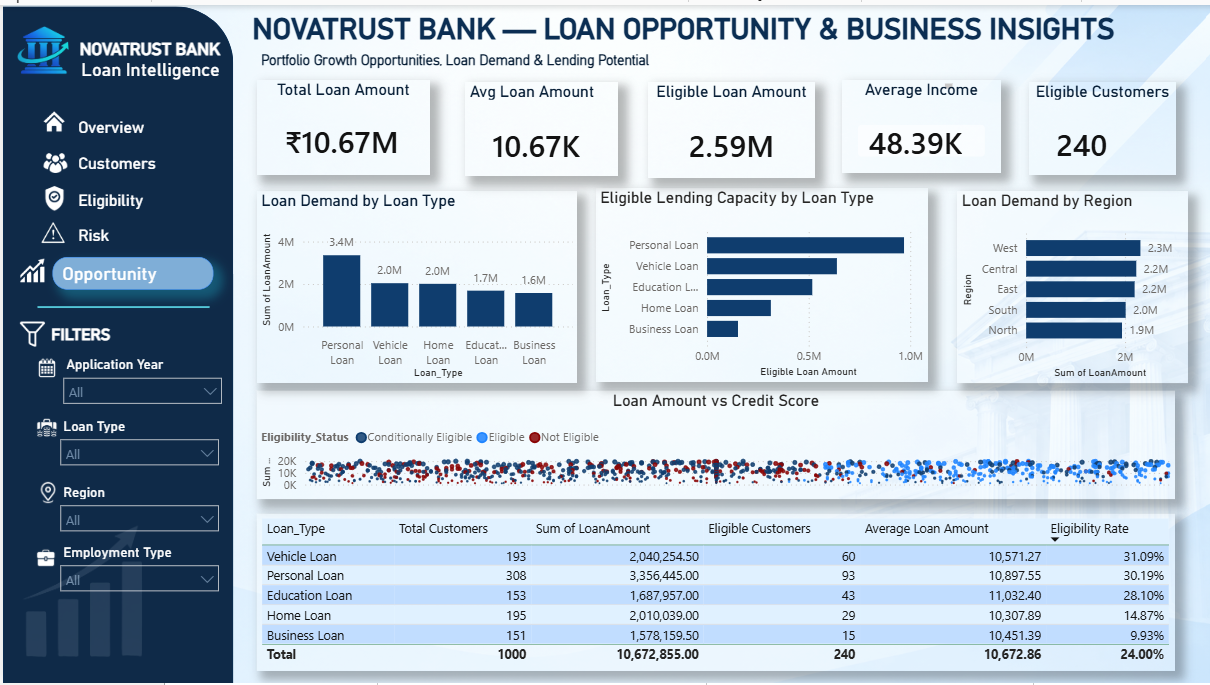

This screenshot's page, from the dashboard's own definition file:
{"tool":"powerbi","page":{"name":"Loan Opportunity","canvas":[1280,720],"ordinal":4},"visuals":[{"type":"shape","box":[0,0.8,244.2,719.2],"z":0},{"type":"image","box":[9.5,20.7,63.6,55.7],"z":1000},{"type":"textbox","title":"NOVATRUST BANK","box":[73.2,36.6,165.4,20.7],"z":2000},{"type":"textbox","title":"Loan Intelligence","box":[60.4,57.3,192,42.1],"z":3000},{"type":"image","box":[43.1,108.5,22.7,30.8],"z":4000},{"type":"textbox","title":"Opportunity","box":[53.1,267.1,170.9,34.8],"z":5000},{"type":"image","box":[43.1,153.2,25.5,30.3],"z":6000},{"type":"textbox","title":"Overview","box":[74.5,119.8,155.4,19.4],"z":7000},{"type":"image","box":[36.5,189.1,36.5,33.2],"z":8000},{"type":"textbox","title":"Customers","box":[75,157.9,151.1,25.4],"z":9000},{"type":"image","box":[38.2,228.9,29.9,24.9],"z":10000},{"type":"textbox","title":"Eligibility","box":[74.6,197.4,179.1,24.9],"z":11000},{"type":"image","box":[0,260.4,63,41.5],"z":12000},{"type":"textbox","title":"Risk","box":[74.6,233.9,147.6,38.2],"z":13000},{"type":"shape","box":[36.5,305.2,182.5,29.9],"z":14000},{"type":"image","box":[16.7,335,30,26.7],"z":15000},{"type":"textbox","title":"FILTERS","box":[46.1,338.8,187.7,28.6],"z":16000},{"type":"image","box":[35,373.3,23.3,21.7],"z":17000},{"type":"slicer","title":"Application Year","fields":{"Values":["Loan_Applications.Application_Date"]},"box":[54.1,367.4,187.7,65.2],"z":18000},{"type":"image","box":[23.3,433.3,45,35],"z":19000},{"type":"slicer","fields":{"Values":["Loan_Applications.Loan_Type"]},"box":[50.9,432.6,187.7,70],"z":20000},{"type":"slicer","fields":{"Values":["Loan_Applications.Region"]},"box":[50.9,502.6,187.7,62],"z":21000},{"type":"slicer","fields":{"Values":["Loan_Applications.Employment_Type"]},"box":[50.9,566.3,187.7,68.4],"z":22000},{"type":"image","box":[31.7,503.3,31.7,28.3],"z":23000},{"type":"image","box":[11.7,553.3,68.4,65.2],"z":24000},{"type":"image","box":[0,518.5,162.7,201],"z":25000},{"type":"textbox","title":" NOVATRUST BANK — LOAN OPPORTUNITY & BUSINESS INSIGHTS","box":[258.6,7.1,956.5,49.6],"z":26000},{"type":"textbox","title":"Portfolio Growth Opportunities, Loan Demand & Lending Potential","box":[268.8,49.3,742.8,44.5],"z":27000},{"type":"cardVisual","title":"Avg Loan Amount","fields":{"Data":["Loan_Applications.Average Loan Amount"]},"box":[489.9,81.1,163,101],"z":28000},{"type":"cardVisual","title":"Total Loan Amount","fields":{"Data":["Sum(Loan_Applications.LoanAmount)"]},"box":[269.2,79.7,184.2,101],"z":29000},{"type":"cardVisual","title":"Eligible Loan Amount","fields":{"Data":["Loan_Applications.Eligible Loan Amount"]},"box":[684,81.1,177.1,102.1],"z":30000},{"type":"cardVisual","title":"Average Income","fields":{"Data":["Loan_Applications.Average Income"]},"box":[889.2,79.7,169.1,98.9],"z":31000},{"type":"cardVisual","title":"Eligible Customers","fields":{"Data":["Loan_Applications.Eligible Customers"]},"box":[1087.5,81.5,155.9,99.2],"z":32000},{"type":"clusteredColumnChart","title":"Loan Demand by Loan Type","fields":{"Category":["Loan_Applications.Loan_Type"],"Y":["Sum(Loan_Applications.LoanAmount)"]},"box":[269.2,196.6,340.1,203.7],"z":33000},{"type":"barChart","title":"Eligible Lending Capacity by Loan Type","fields":{"Category":["Loan_Applications.Loan_Type"],"Y":["Loan_Applications.Eligible Loan Amount"]},"box":[628.8,194.8,352.5,205.5],"z":34000},{"type":"barChart","title":"Loan Demand by Region","fields":{"Category":["Loan_Applications.Region"],"Y":["Sum(Loan_Applications.LoanAmount)"]},"box":[1011.4,196.6,244.4,203.7],"z":35000},{"type":"scatterChart","title":"Loan Amount vs Credit Score ","fields":{"X":["Sum(Loan_Applications.CreditScore)"],"Y":["Sum(Loan_Applications.LoanAmount)"],"Category":["Loan_Applications.Applicant_ID"],"Series":["Loan_Applications.Eligibility_Status"],"Size":["Sum(Loan_Applications.LoanAmount)"]},"box":[269.2,409.2,974.2,115.1],"z":36000},{"type":"tableEx","fields":{"Values":["Loan_Applications.Loan_Type","Loan_Applications.Total Customers","Sum(Loan_Applications.LoanAmount)","Loan_Applications.Eligible Customers","Loan_Applications.Average Loan Amount","Loan_Applications.Eligibility Rate"]},"box":[269.2,538.5,974.2,166.5],"z":37000},{"type":"actionButton","box":[67.3,228.5,100,40],"z":38000},{"type":"actionButton","box":[67.3,187.8,147,40.7],"z":39000},{"type":"actionButton","box":[67.3,147,163,40.7],"z":40000},{"type":"actionButton","box":[67.3,108,178.9,40.7],"z":41000}]}

Visuals, with their boxes in screenshot pixels (x1, y1, x2, y2), scaled from the page's 1280x720 canvas onto the 1210x685 screenshot:
shape: 0, 1, 231, 684
image: 9, 20, 69, 73
"NOVATRUST BANK" textbox: 69, 35, 226, 55
"Loan Intelligence" textbox: 57, 55, 239, 95
image: 41, 103, 62, 133
"Opportunity" textbox: 50, 254, 212, 287
image: 41, 146, 65, 175
"Overview" textbox: 70, 114, 217, 132
image: 35, 180, 69, 211
"Customers" textbox: 71, 150, 214, 174
image: 36, 218, 64, 241
"Eligibility" textbox: 71, 188, 240, 211
image: 0, 248, 60, 287
"Risk" textbox: 71, 223, 210, 259
shape: 35, 290, 207, 319
image: 16, 319, 44, 344
"FILTERS" textbox: 44, 322, 221, 350
image: 33, 355, 55, 376
"Application Year" slicer: 51, 350, 229, 412
image: 22, 412, 65, 446
slicer - Loan_Applications.Loan_Type: 48, 412, 226, 478
slicer - Loan_Applications.Region: 48, 478, 226, 537
slicer - Loan_Applications.Employment_Type: 48, 539, 226, 604
image: 30, 479, 60, 506
image: 11, 526, 76, 588
image: 0, 493, 154, 684
" NOVATRUST BANK — LOAN OPPORTUNITY & BUSINESS INSIGHTS" textbox: 244, 7, 1149, 54
"Portfolio Growth Opportunities, Loan Demand & Lending Potential" textbox: 254, 47, 956, 89
"Avg Loan Amount" cardVisual: 463, 77, 617, 173
"Total Loan Amount" cardVisual: 254, 76, 429, 172
"Eligible Loan Amount" cardVisual: 647, 77, 814, 174
"Average Income" cardVisual: 841, 76, 1000, 170
"Eligible Customers" cardVisual: 1028, 78, 1175, 172
"Loan Demand by Loan Type" clusteredColumnChart: 254, 187, 576, 381
"Eligible Lending Capacity by Loan Type" barChart: 594, 185, 928, 381
"Loan Demand by Region" barChart: 956, 187, 1187, 381
"Loan Amount vs Credit Score " scatterChart: 254, 389, 1175, 499
tableEx - Loan_Applications.Loan_Type x Loan_Applications.Total Customers: 254, 512, 1175, 671
actionButton: 64, 217, 158, 255
actionButton: 64, 179, 203, 217
actionButton: 64, 140, 218, 179
actionButton: 64, 103, 233, 141
